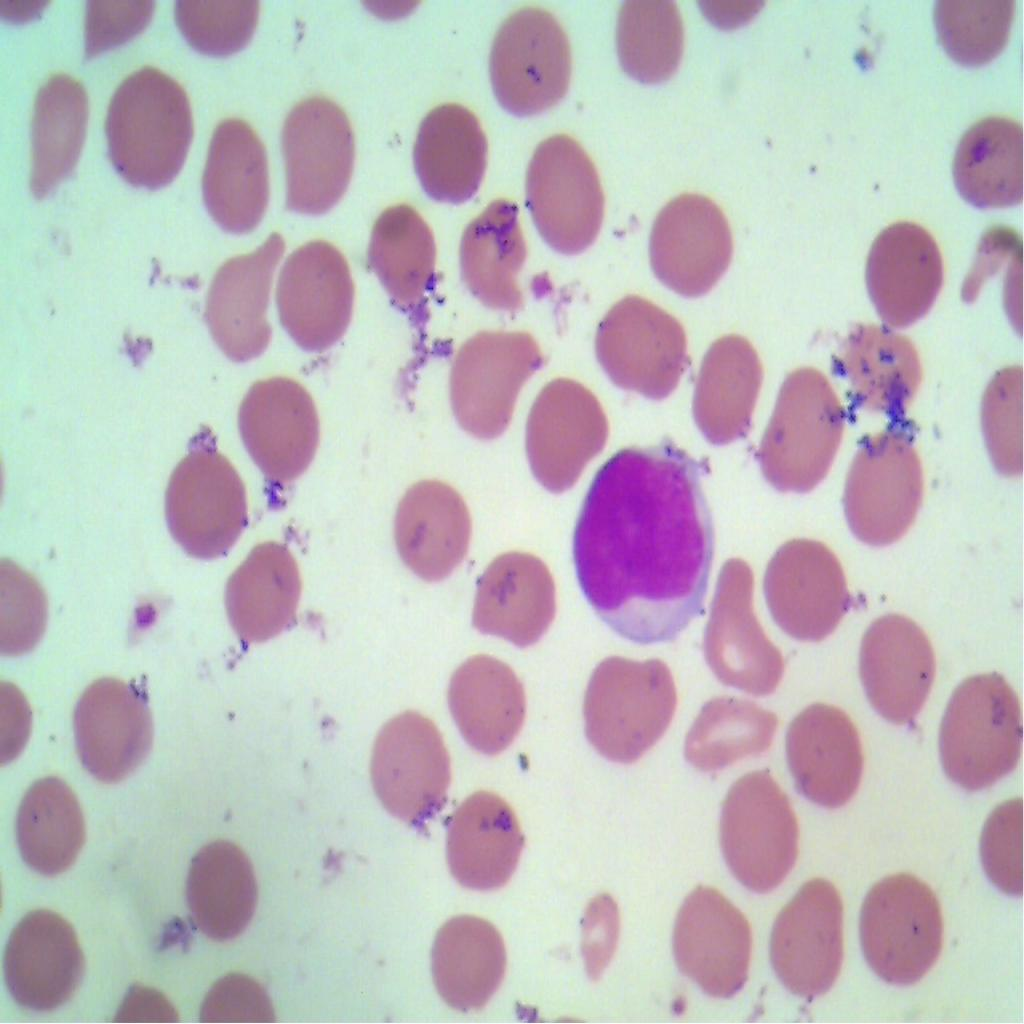Eritrosit: (931, 652, 1023, 798), (704, 554, 794, 696), (215, 531, 314, 660), (673, 668, 784, 782), (576, 639, 671, 772), (853, 856, 950, 986), (98, 64, 194, 192), (838, 424, 932, 554), (448, 319, 541, 447), (150, 445, 256, 557), (226, 372, 326, 489), (594, 284, 688, 408), (711, 765, 799, 897), (479, 4, 579, 118), (688, 329, 771, 465), (469, 534, 563, 654), (199, 231, 281, 367), (271, 237, 363, 358), (761, 368, 846, 497), (278, 87, 359, 221), (759, 525, 854, 639), (522, 375, 612, 494), (855, 607, 941, 731), (864, 208, 946, 338), (770, 872, 852, 1002), (670, 871, 758, 992), (521, 130, 604, 258), (0, 901, 90, 1018), (66, 678, 161, 788), (369, 704, 450, 832), (786, 692, 868, 815), (444, 645, 530, 762), (648, 189, 734, 304), (178, 829, 263, 944), (366, 192, 446, 314), (421, 906, 513, 1012), (390, 474, 474, 588), (12, 767, 94, 882), (413, 100, 495, 212), (196, 114, 269, 234), (458, 192, 532, 310), (22, 64, 90, 192), (438, 790, 526, 888), (836, 318, 921, 414), (949, 105, 1023, 210), (616, 0, 690, 98), (564, 879, 630, 986)
Limfoblast: (568, 445, 721, 647)
Platelet: (128, 584, 158, 637), (524, 260, 555, 305), (664, 992, 699, 1023)
